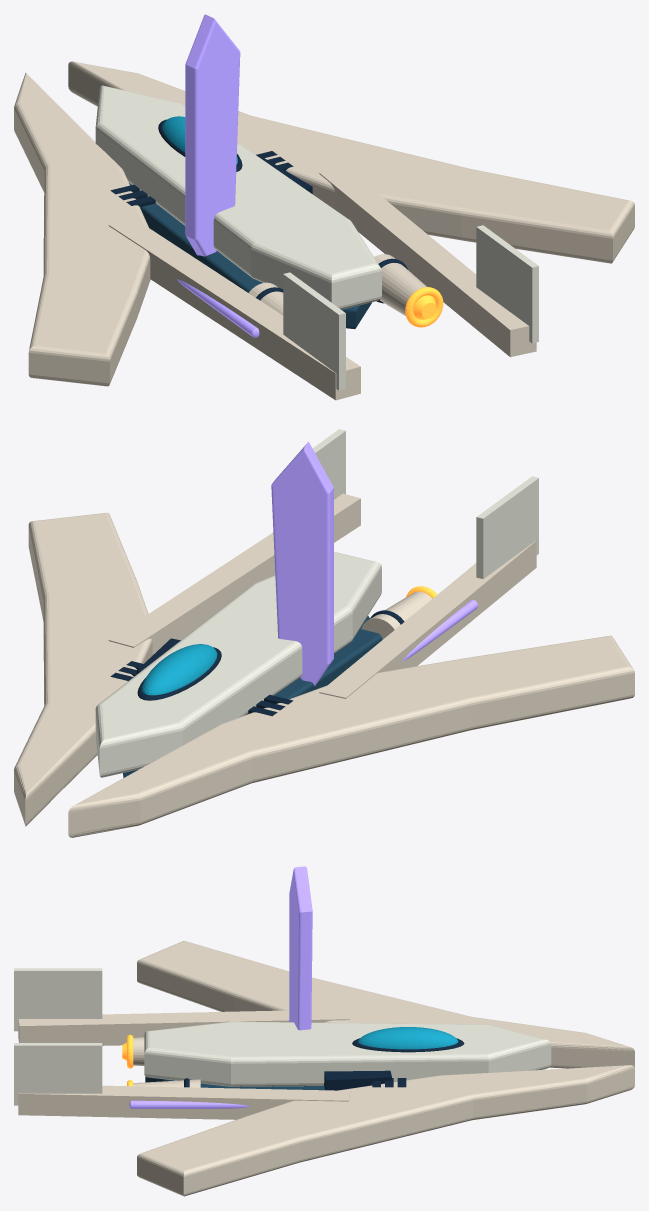
Rendered from wraith-high.glb.
3 renders of one model, top to bottom at view 1: azimuth 30°, elevation 25°; view 2: azimuth 150°, elevation 25°; view 3: azimuth 270°, elevation 25°, orthographic. The views are drawn at different scales.
Parts seen in each view (by area): view 1: hull_static, porcelain_static, trim_static, accent_static, dark_static, engine_static, glass_static; view 2: hull_static, porcelain_static, trim_static, glass_static, accent_static, dark_static; view 3: hull_static, porcelain_static, trim_static, dark_static, glass_static, accent_static.
Part boxes in pixels (x1,y1,x2,y2): hull_static: (14,61,634,400); porcelain_static: (95,85,538,390); trim_static: (177,14,259,337); accent_static: (129,182,371,329); dark_static: (110,119,407,303); engine_static: (405,287,443,327); glass_static: (162,116,237,164); hull_static: (14,493,634,837); porcelain_static: (95,429,538,777); trim_static: (271,441,477,685); glass_static: (142,644,217,695); accent_static: (123,616,382,777); dark_static: (110,610,404,716); hull_static: (18,940,634,1196); porcelain_static: (14,968,551,1105); trim_static: (129,866,312,1108); dark_static: (184,1038,464,1090); glass_static: (358,1027,458,1049); accent_static: (145,1077,324,1090).
Size of the model in its own units: 351 by 144 by 394.
